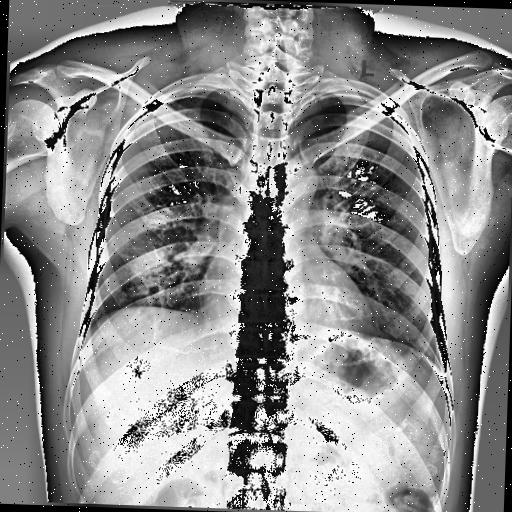13- Pulmonary fibrosis: (112, 246, 182, 303)
4- Consolidation: (112, 246, 182, 303)
6- Infiltration: (122, 238, 177, 292)
7- Lung Opacity: (122, 238, 177, 292), (127, 232, 173, 295)
9- Other lesion: (122, 238, 177, 292)
